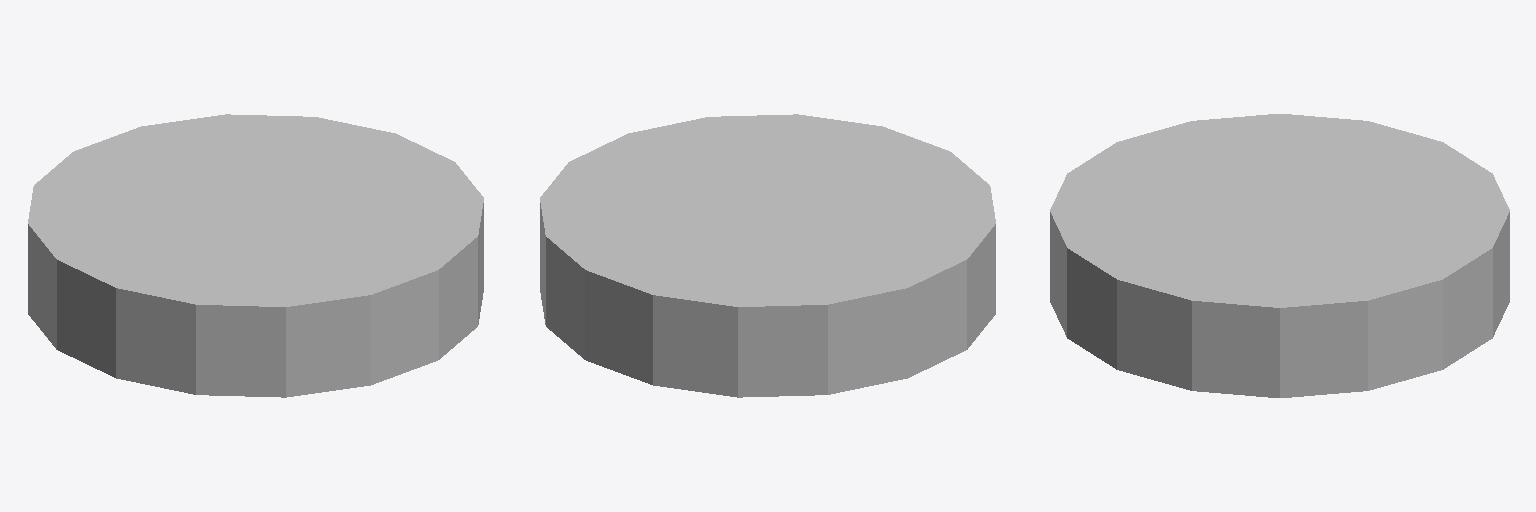
The model's file is DrumSet_Timbale.obj.
The picture shows the model from 3 angles: view 1: azimuth 30°, elevation 25°; view 2: azimuth 150°, elevation 25°; view 3: azimuth 270°, elevation 25°; orthographic projection.
Parts seen in each view (by area): view 1: Converted object 0; view 2: Converted object 0; view 3: Converted object 0.
Boxes of the visible parts, box(x1,y1,x2,y2) form: Converted object 0: box(28, 114, 483, 397); Converted object 0: box(540, 114, 995, 397); Converted object 0: box(1050, 114, 1509, 397).
Bounding box in the file's own units: 14 × 3.03 × 14.